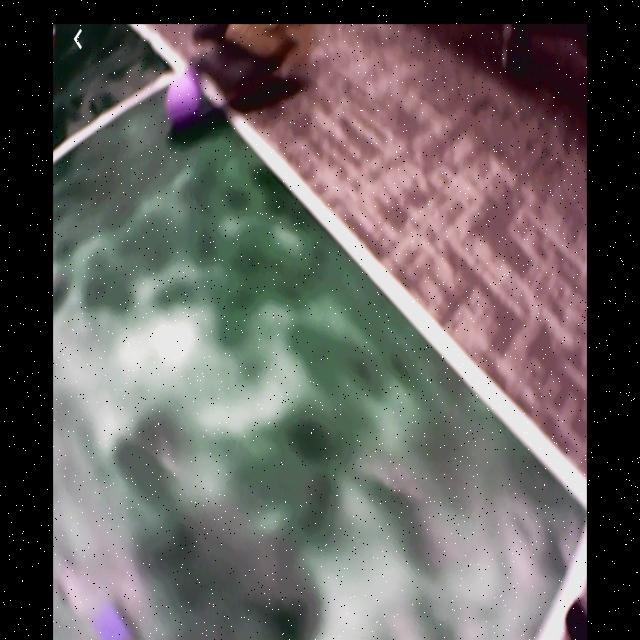ball: (167, 78, 202, 128)
